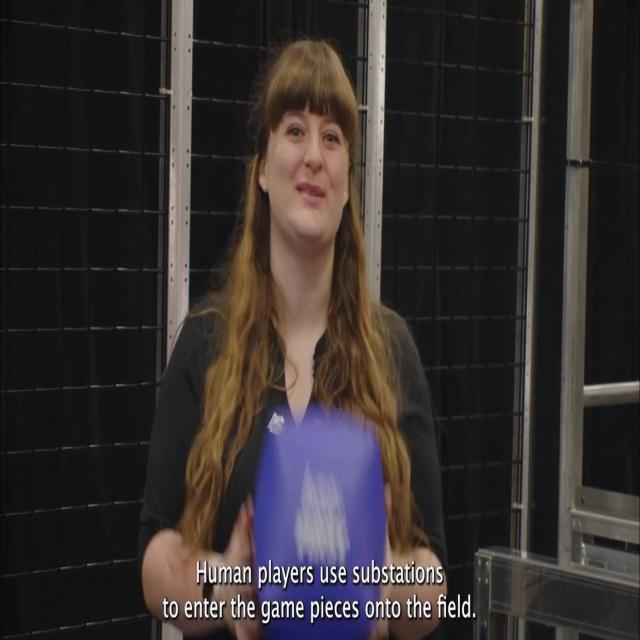frc_cube: (260, 422, 386, 629)
